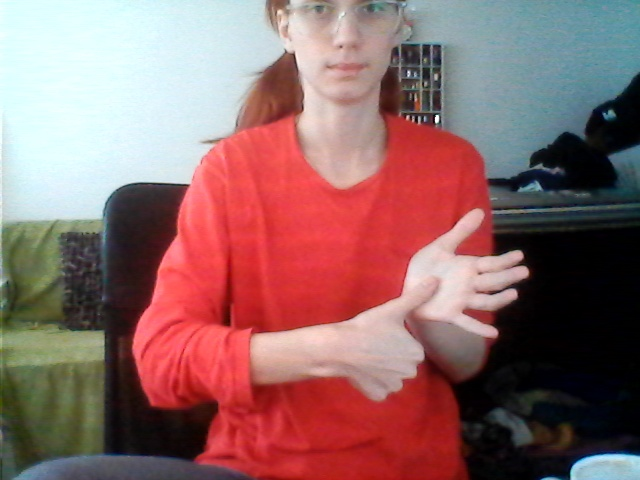pivo: (343, 206, 532, 410)
